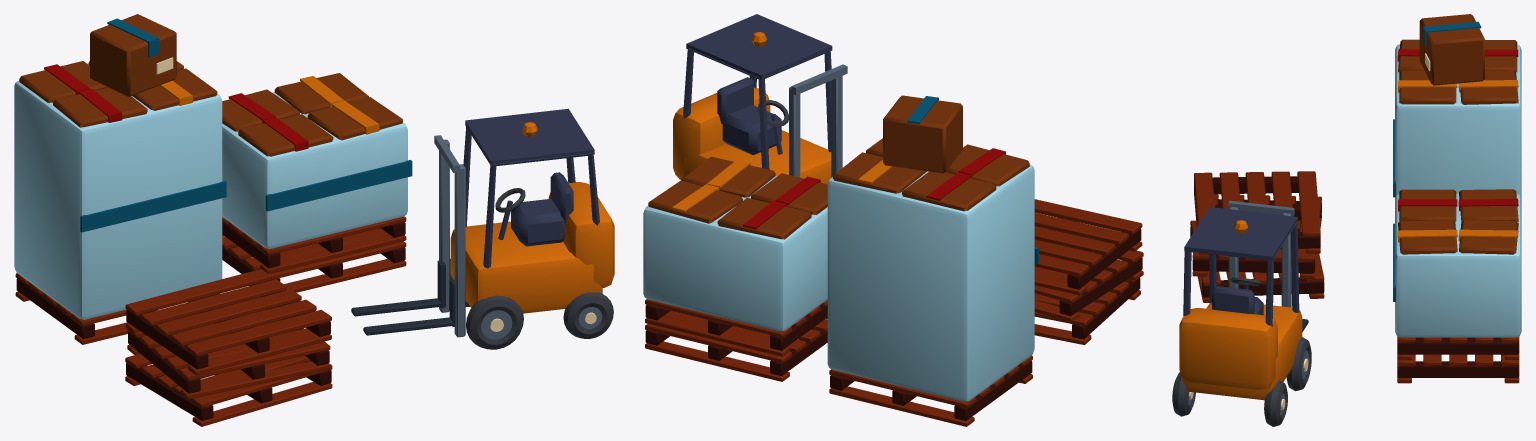
The model's file is PalletStack.obj.
The picture shows the model from 3 angles, left to right: view 1: azimuth 30°, elevation 25°; view 2: azimuth 150°, elevation 25°; view 3: azimuth 270°, elevation 25°; orthographic projection. The views are drawn at different scales.
Visible parts, largest first — view 1: PalletStack; view 2: PalletStack; view 3: PalletStack.
Boxes of the visible parts, <box> form: PalletStack: <box>14,14,614,426</box>; PalletStack: <box>643,14,1143,426</box>; PalletStack: <box>1172,14,1521,426</box>.
Size of the model in its own units: 7.59 by 4.55 by 5.74.
